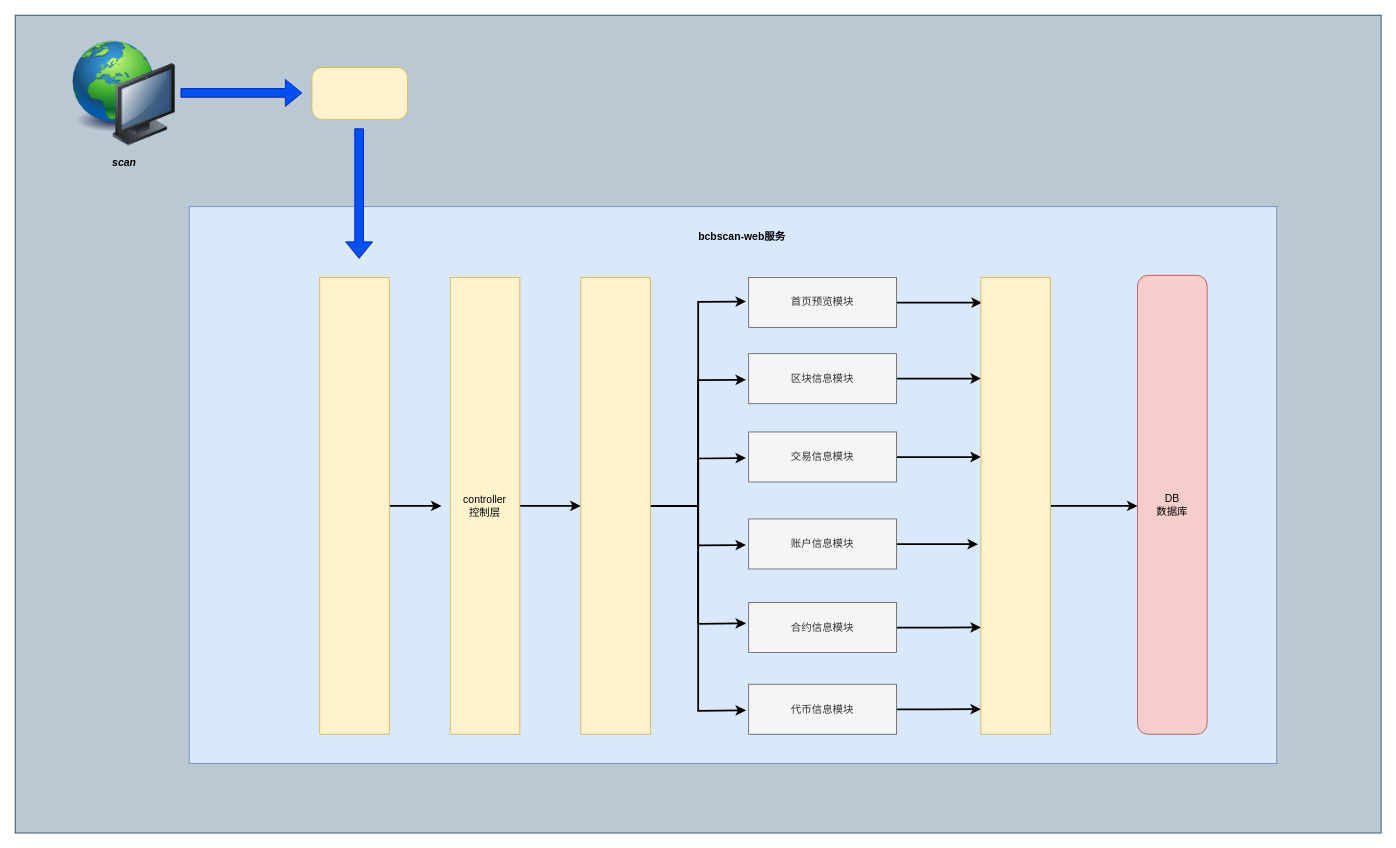
This 1396x848 diagram has some shape labels left out. Each missing label, with the centre of its shape:
model 数据库交互层: the point at 1015,505
request 请求: the point at 359,93
server-router API接口: the point at 354,505
service 业务层: the point at 615,505
